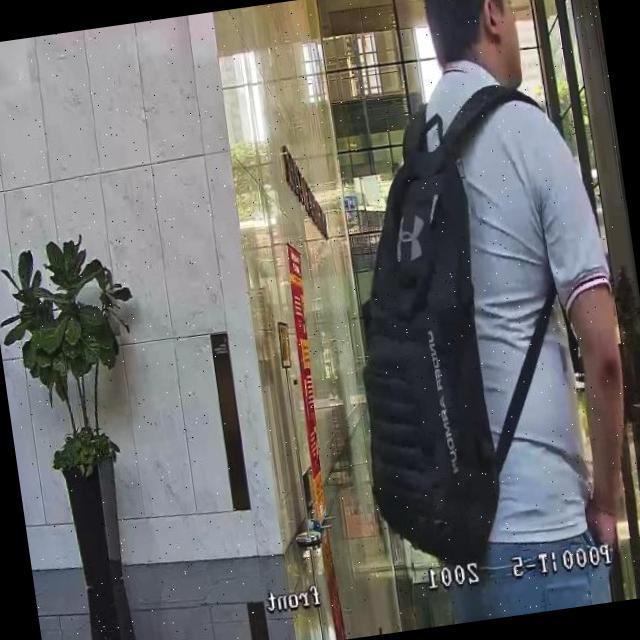person: (353, 0, 640, 626)
